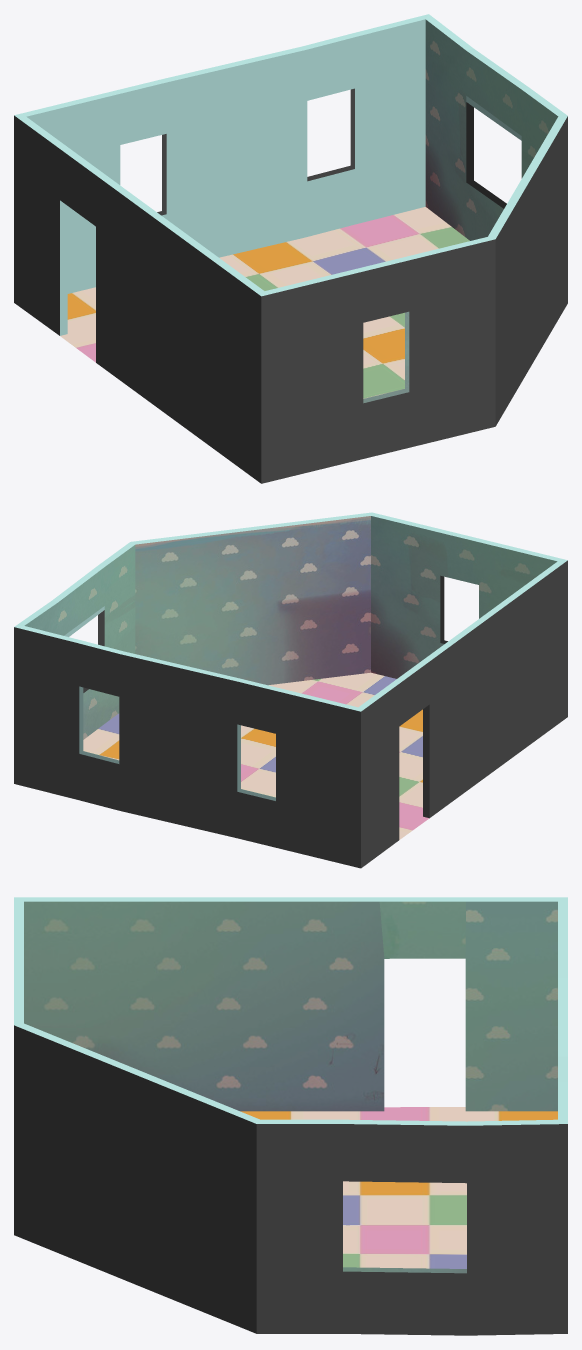
The model's file is roomv02.fbx.
3 views of the same model, one above another, from view 1: azimuth 30°, elevation 25°; view 2: azimuth 150°, elevation 25°; view 3: azimuth 270°, elevation 25° (orthographic). The views are drawn at different scales.
Parts seen in each view (by area): view 1: Plane.002; view 2: Plane.002; view 3: Plane.002.
Part boxes in pixels (bbox=[...]): Plane.002: bbox=[14, 14, 567, 483]; Plane.002: bbox=[14, 512, 567, 868]; Plane.002: bbox=[14, 897, 567, 1335].
Size of the model in its own units: 1842 by 776 by 1783.
6 materials, 4 textured.
